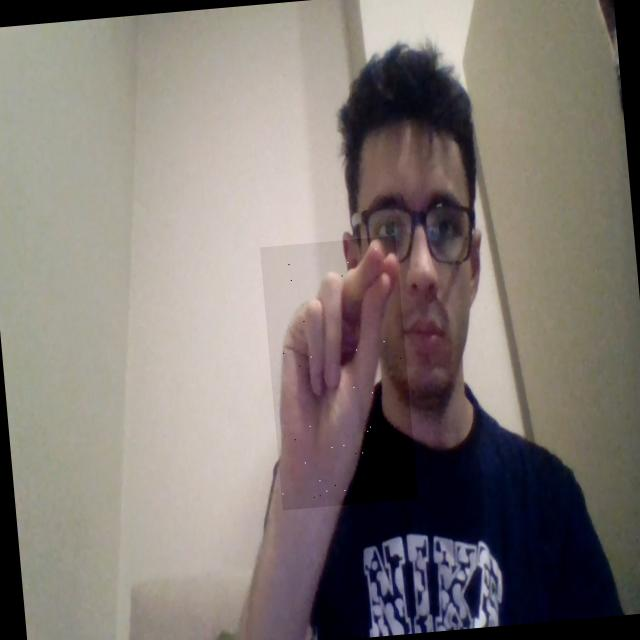no: (259, 235, 418, 510)
